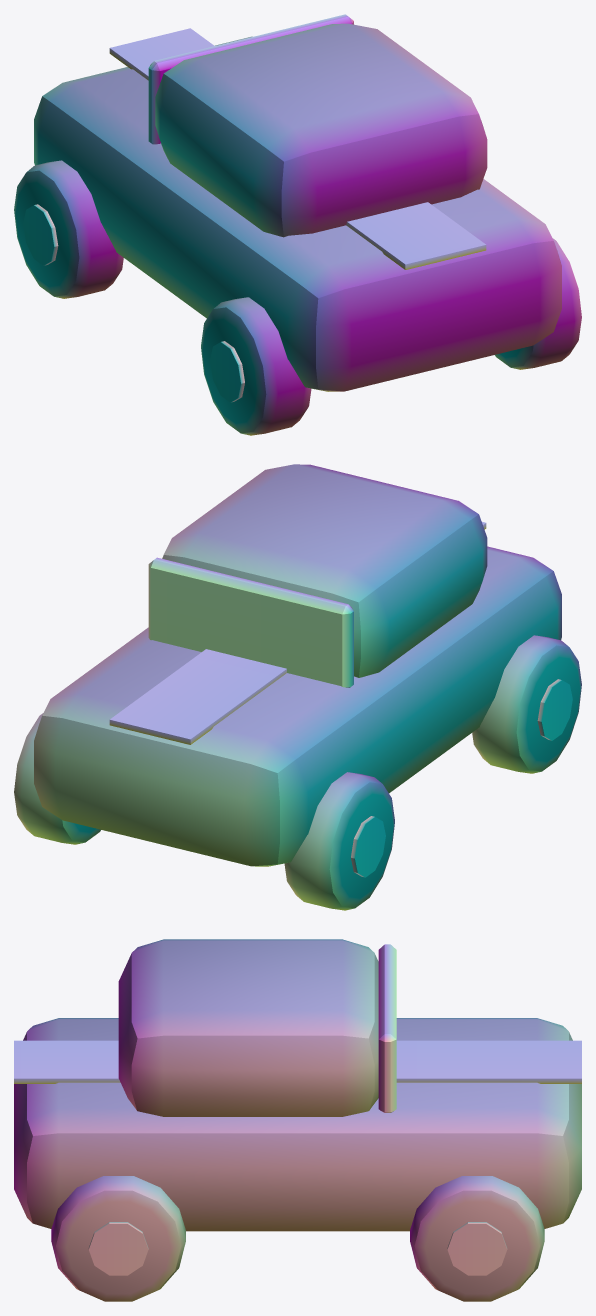
File: env_deco_car.glb
3 renders of one model, top to bottom at view 1: azimuth 30°, elevation 25°; view 2: azimuth 150°, elevation 25°; view 3: azimuth 270°, elevation 25°, orthographic. The views are drawn at different scales.
Parts seen in each view (by area): view 1: env_deco_car_mesh; view 2: env_deco_car_mesh; view 3: env_deco_car_mesh.
Part boxes in pixels (<box>): env_deco_car_mesh: <box>14,14,581,435</box>; env_deco_car_mesh: <box>14,464,581,910</box>; env_deco_car_mesh: <box>14,939,581,1301</box>.
Size of the model in its own units: 0.246 by 0.1889 by 0.38.
